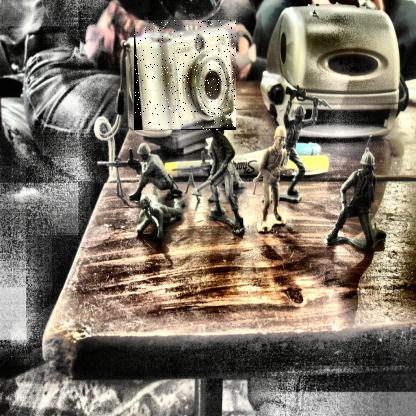Camera: (135, 21, 238, 132)
